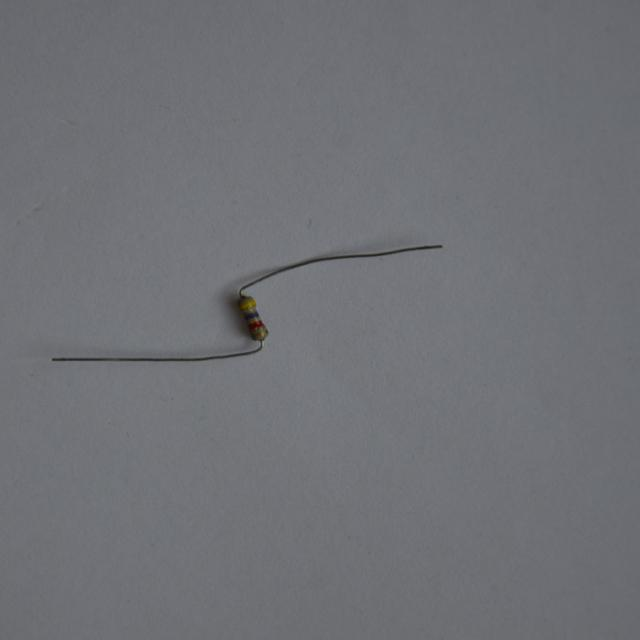gold: (251, 328, 267, 336)
red: (248, 321, 263, 329)
resistor: (221, 288, 279, 352)
violet: (244, 311, 258, 320)
yellow: (239, 300, 256, 309)
